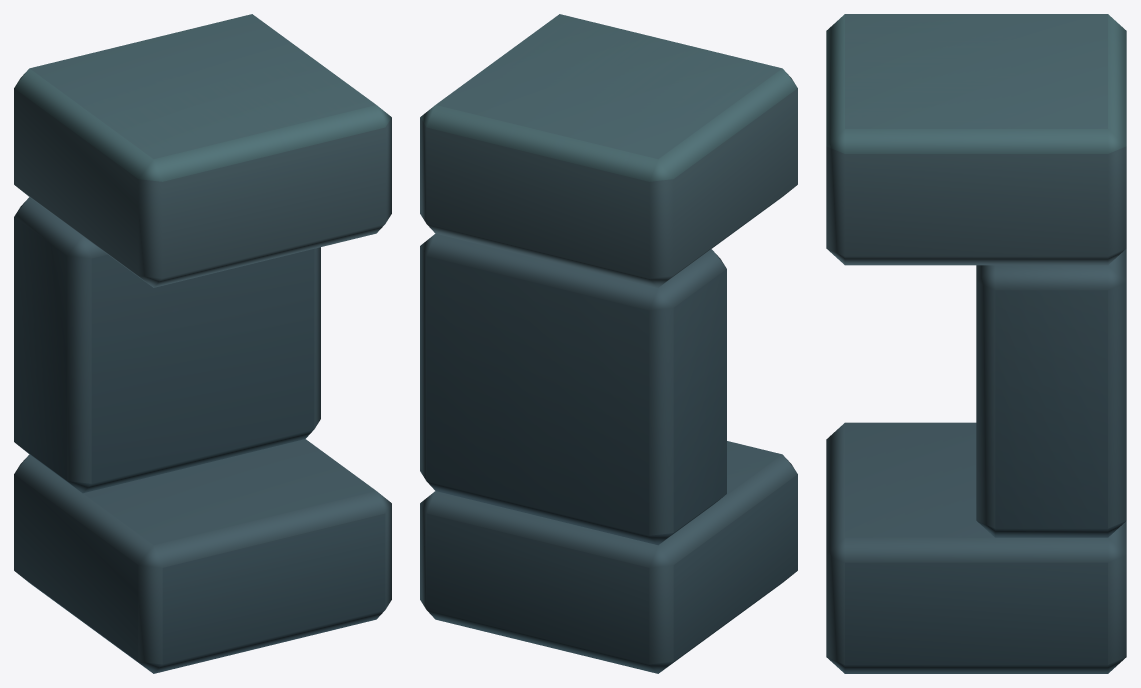
The model's file is wall_pannel_03_hue_2.fbx.
3 views of the same model, side by side, from view 1: azimuth 30°, elevation 25°; view 2: azimuth 150°, elevation 25°; view 3: azimuth 270°, elevation 25° (orthographic). The views are drawn at different scales.
Parts seen in each view (by area): view 1: wall_pannel_03_hue_2; view 2: wall_pannel_03_hue_2; view 3: wall_pannel_03_hue_2.
Part boxes in pixels (x1=…): wall_pannel_03_hue_2: x1=14, y1=14, x2=391, y2=673; wall_pannel_03_hue_2: x1=420, y1=14, x2=797, y2=673; wall_pannel_03_hue_2: x1=826, y1=14, x2=1126, y2=673.
Bounding box in the file's own units: 51.56 × 100 × 50.
